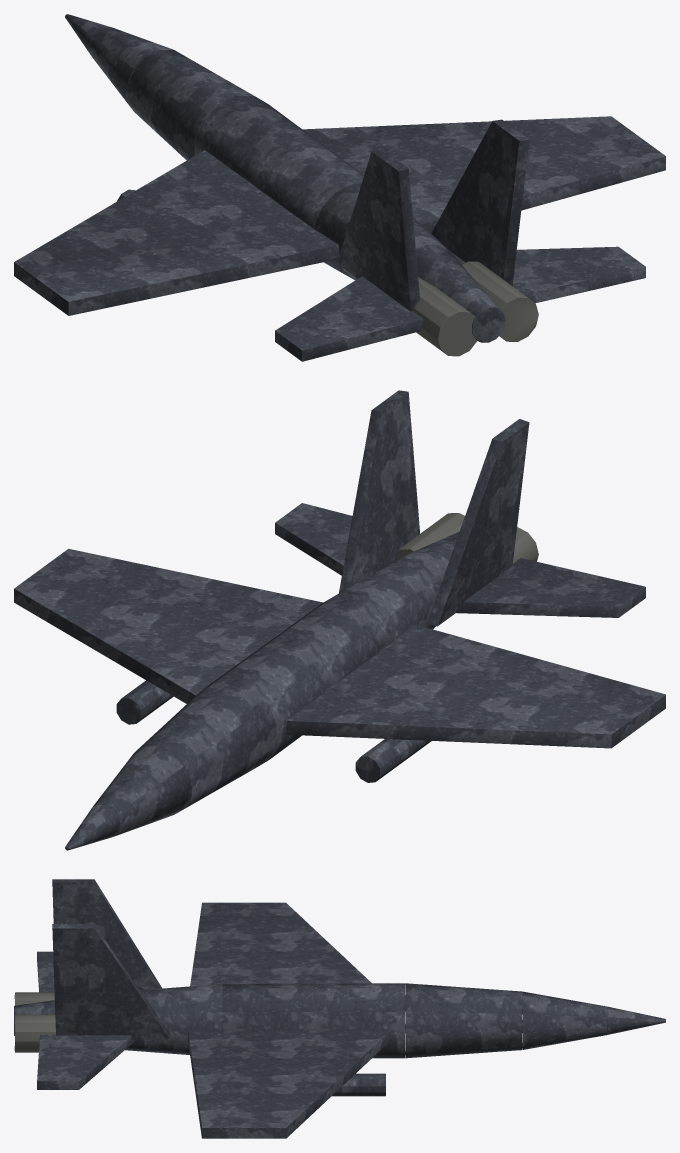
Rendered from air_e4_us_strike_LOD1.glb.
3 renders of one model, top to bottom at view 1: azimuth 30°, elevation 25°; view 2: azimuth 150°, elevation 25°; view 3: azimuth 270°, elevation 25°, orthographic. The views are drawn at different scales.
Parts seen in each view (by area): view 1: air_e4_us_strike_LOD1_body, air_e4_us_strike_LOD1_gun; view 2: air_e4_us_strike_LOD1_body, air_e4_us_strike_LOD1_gun; view 3: air_e4_us_strike_LOD1_body, air_e4_us_strike_LOD1_gun.
Boxes of the visible parts, bbox=[...] form: air_e4_us_strike_LOD1_body: bbox=[14, 14, 665, 361]; air_e4_us_strike_LOD1_gun: bbox=[413, 261, 538, 356]; air_e4_us_strike_LOD1_body: bbox=[14, 390, 665, 850]; air_e4_us_strike_LOD1_gun: bbox=[397, 513, 538, 563]; air_e4_us_strike_LOD1_body: bbox=[14, 879, 665, 1138]; air_e4_us_strike_LOD1_gun: bbox=[14, 992, 55, 1052].
Bounding box in the file's own units: 13.9 × 4.37 × 17.
Materials: 3 (1 with a texture image).
